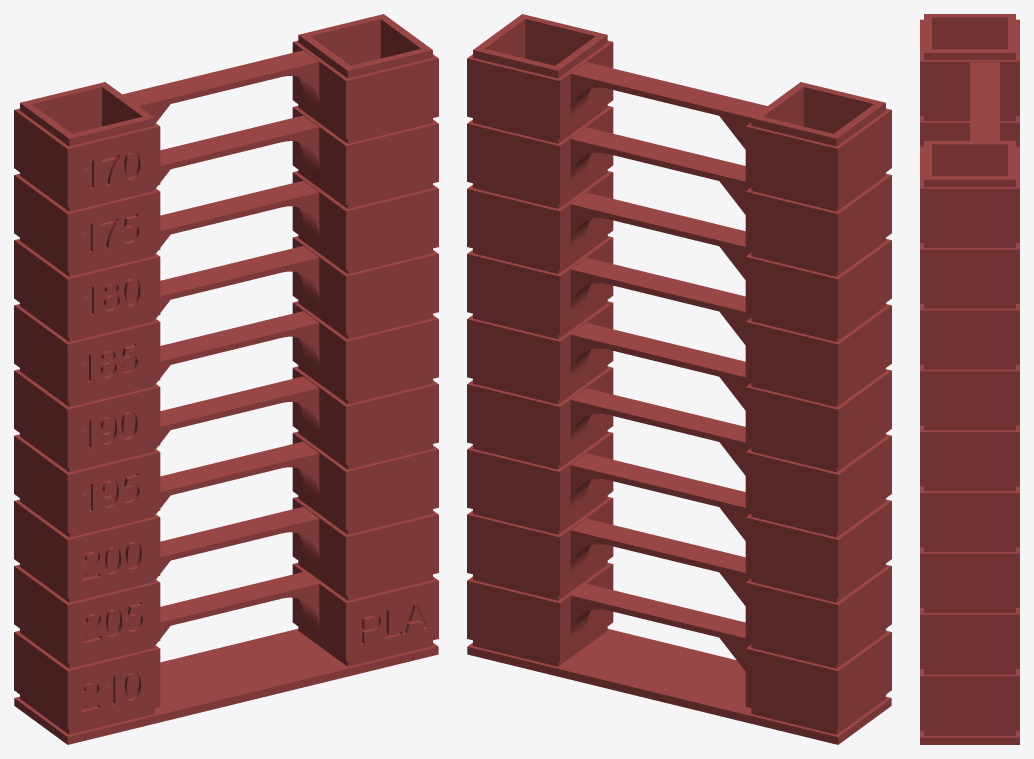
The model's file is 170-210_PLA_Temp_Tower-51.glb.
3 views of the same model, side by side, from view 1: azimuth 30°, elevation 25°; view 2: azimuth 150°, elevation 25°; view 3: azimuth 270°, elevation 25° (orthographic). The views are drawn at different scales.
Bounding box in the file's own units: 40.03 × 62.2 × 10.
